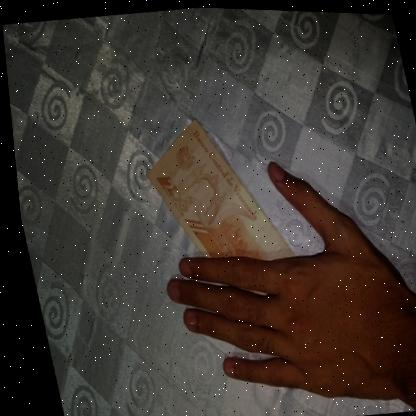twenty-back-vef: (129, 107, 292, 273)
